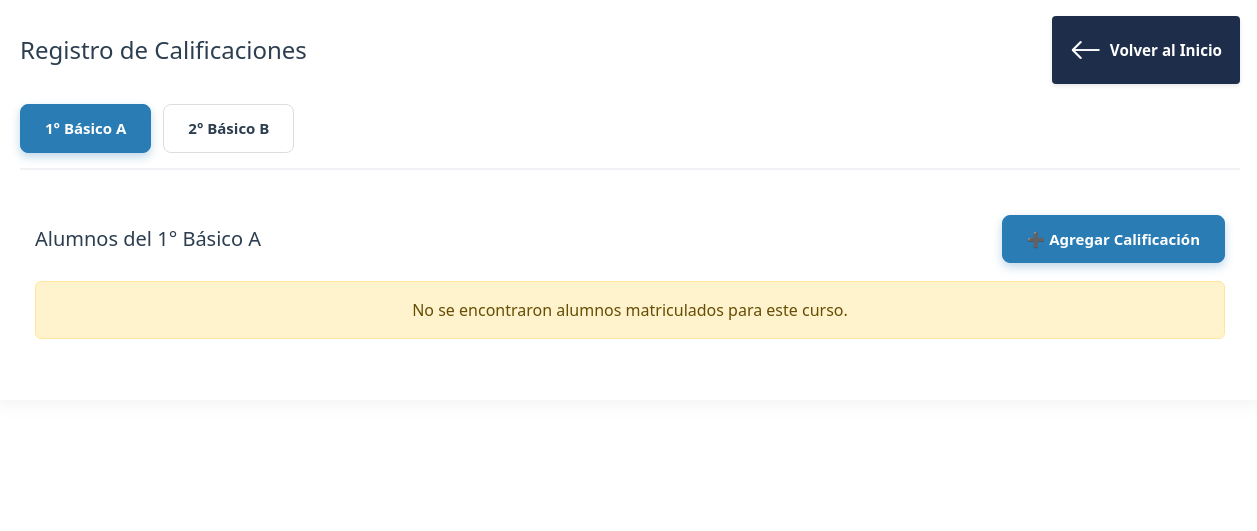
Test: Calificaciones › Cambio de curso › al cambiar de curso se cancela el modo crear
This screenshot has width=1257, height=531.
What coordinates should you click on to do the following:
click the button "➕ Agregar Calificación"
I would click on:
 (1113, 239)
Its box is [1002,214,1225,263].
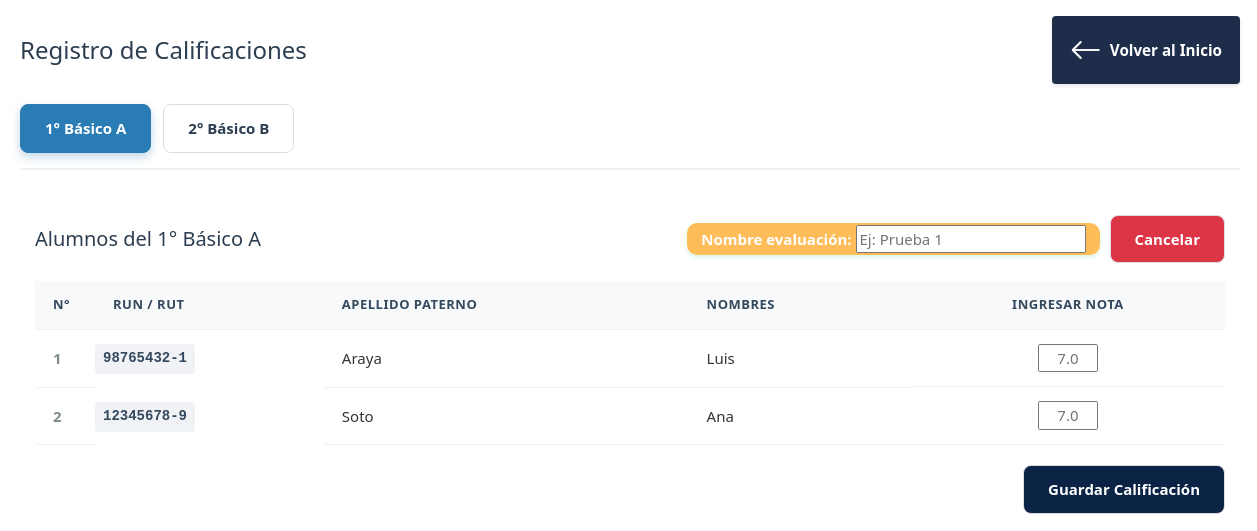
// Estamos en modo crear, cambiamos de curso
What coordinates should you click on to do the following:
click the button "2° Básico B"
I would click on:
 (229, 128)
Its box is [163,104,294,152].
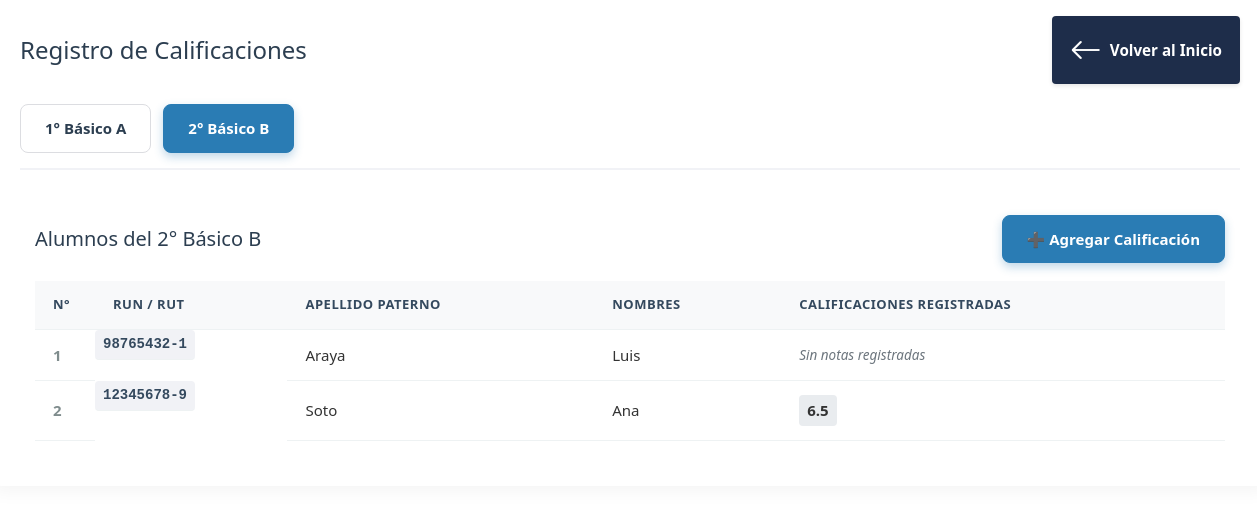
Result: the button "➕ Agregar Calificación" is shown at [1002,214,1225,263]
